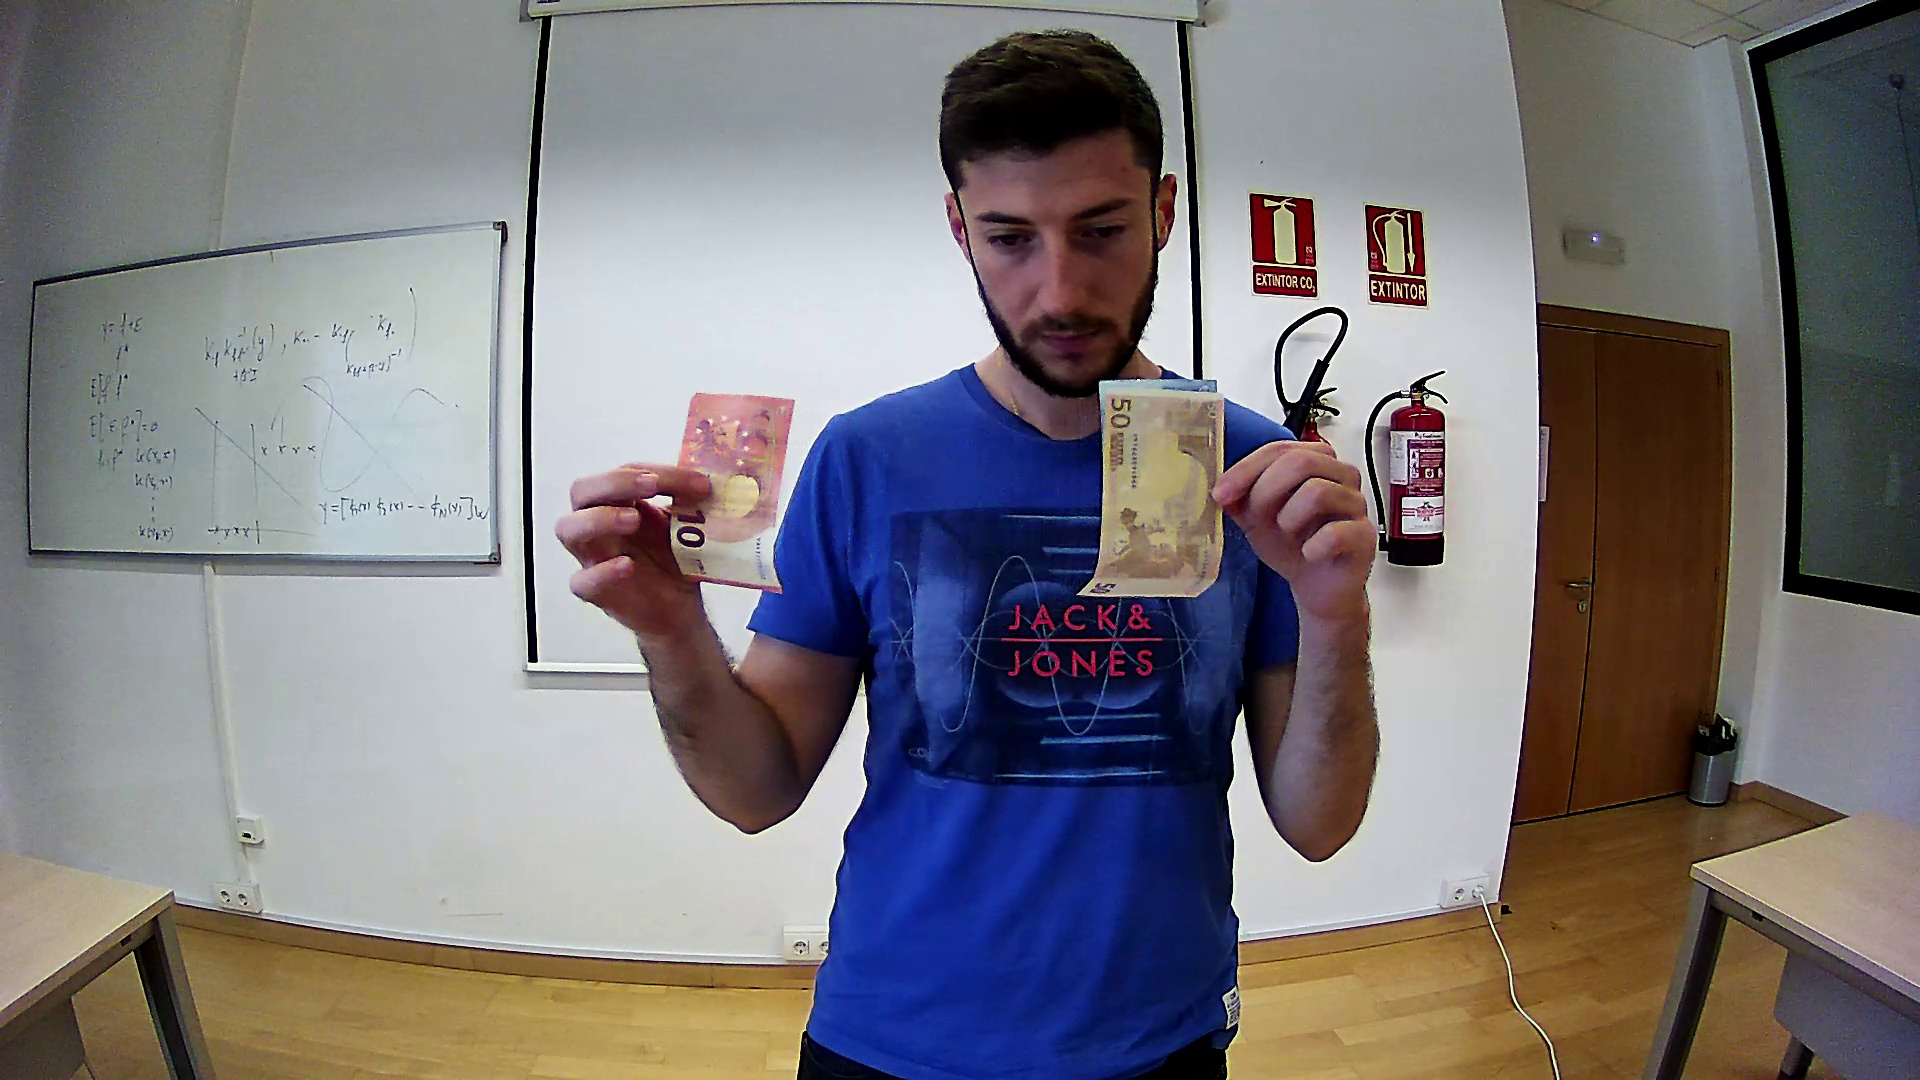billete: (1073, 378, 1225, 599), (669, 392, 796, 593)
